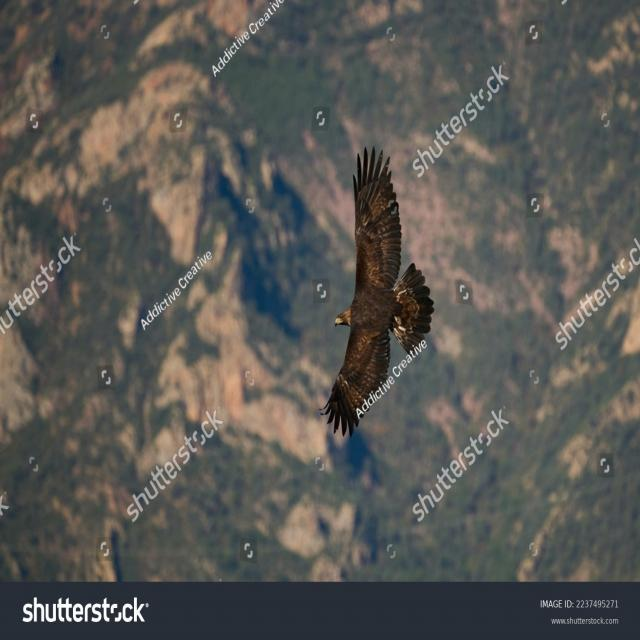bird: (300, 43, 516, 443)
